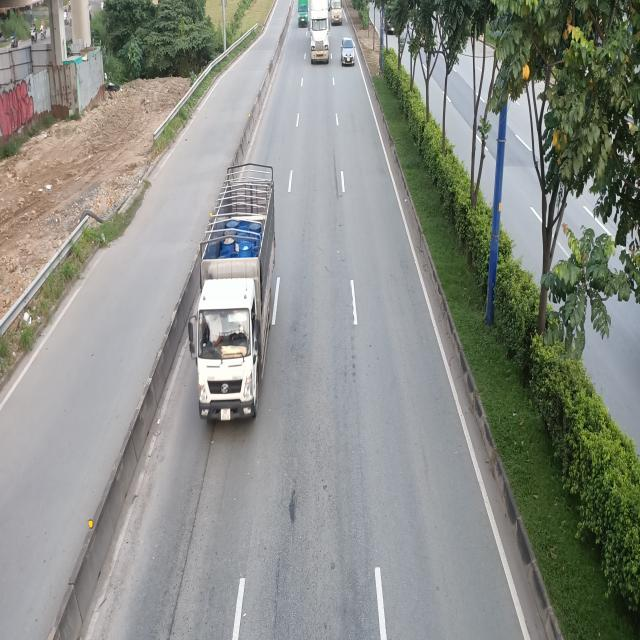car: (341, 35, 356, 65)
container: (309, 0, 331, 65)
truck: (192, 167, 282, 433)
